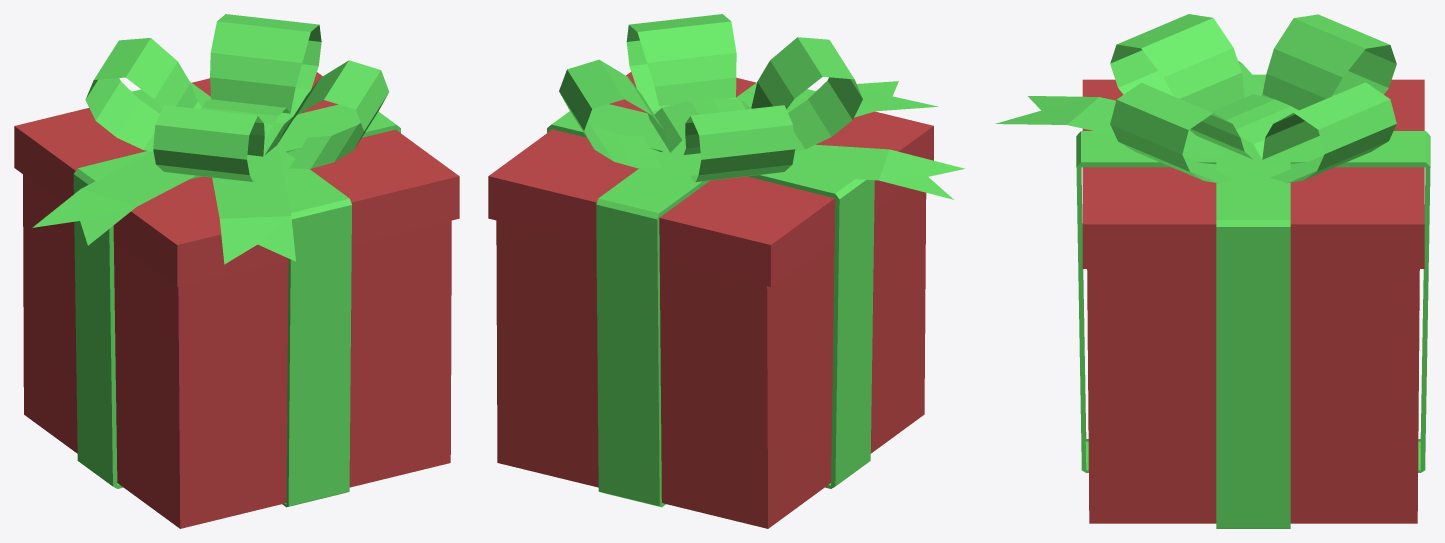
Rendered from Gift Box.fbx.
The picture shows the model from 3 angles, left to right: view 1: azimuth 30°, elevation 25°; view 2: azimuth 150°, elevation 25°; view 3: azimuth 270°, elevation 25°; orthographic projection. The views are drawn at different scales.
Parts seen in each view (by area): view 1: Gift Box; view 2: Gift Box; view 3: Gift Box.
Part boxes in pixels (box(x1,y1,x2,y2)): Gift Box: box(14, 14, 459, 528); Gift Box: box(488, 14, 965, 528); Gift Box: box(995, 14, 1430, 528).
Bounding box in the file's own units: 33.99 × 32.8 × 32.97.
